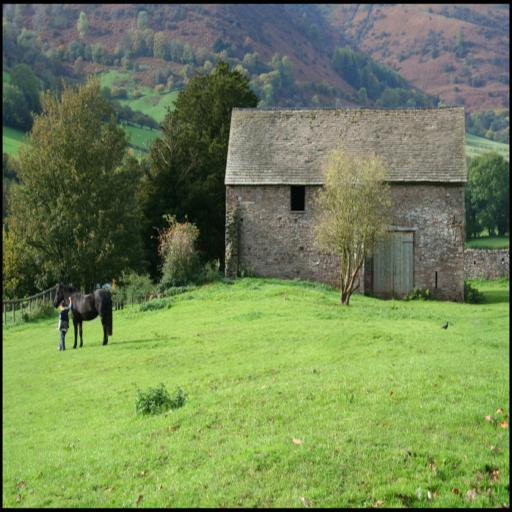Horse: (52, 280, 112, 348)
